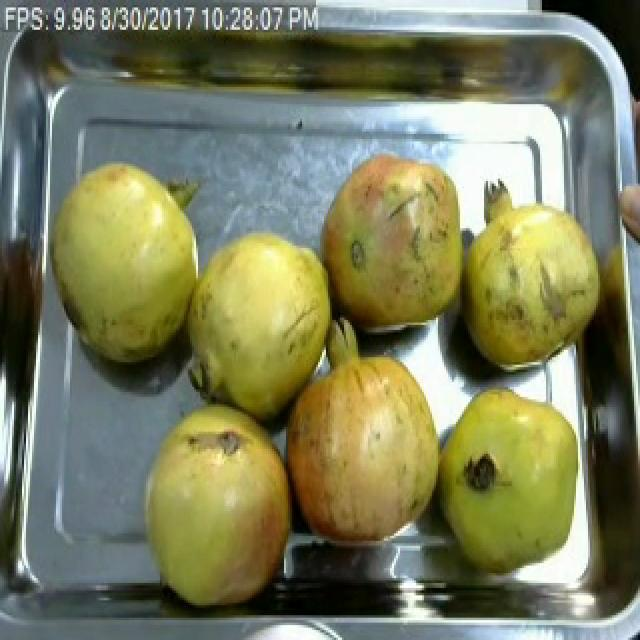fruit: (126, 380, 306, 620), (42, 146, 218, 380), (272, 340, 450, 560), (174, 218, 346, 427), (308, 144, 478, 345), (436, 380, 590, 580), (458, 181, 610, 380), (612, 162, 640, 266)
